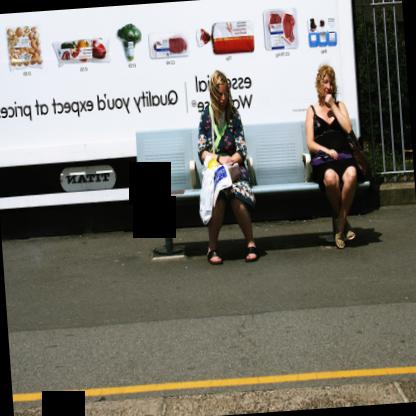handbag: (348, 129, 372, 185), (307, 149, 353, 178), (224, 162, 240, 184)
